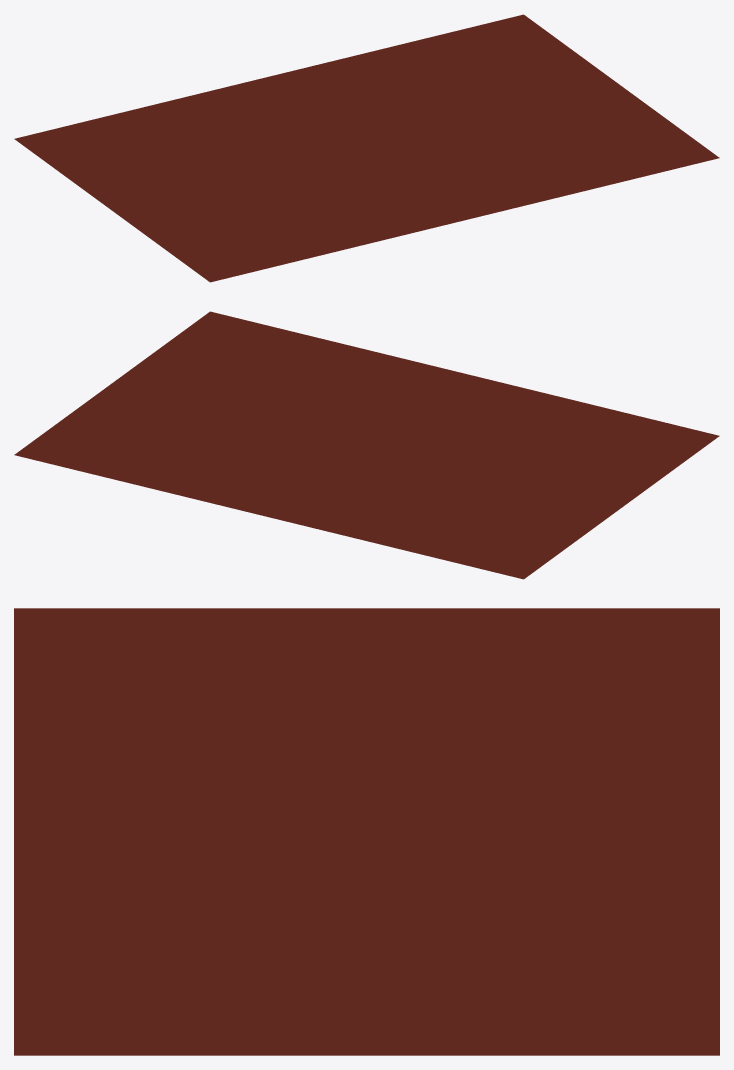
Rendered from livingroom_rug.fbx.
3 renders of one model, top to bottom at view 1: azimuth 30°, elevation 25°; view 2: azimuth 150°, elevation 25°; view 3: azimuth 270°, elevation 25°, orthographic. The views are drawn at different scales.
Parts seen in each view (by area): view 1: rug; view 2: rug; view 3: rug.
Boxes of the visible parts, left/top/right/bottom form: rug: left=14, top=14, right=719, bottom=282; rug: left=14, top=311, right=719, bottom=579; rug: left=14, top=608, right=719, bottom=1055.
Size of the model in its own units: 479 by 0 by 319.
